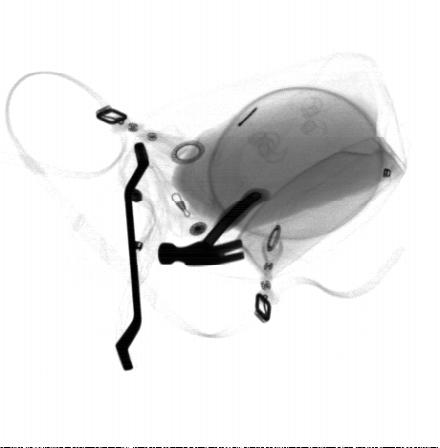Hammer: (157, 186, 268, 267)
Wrench: (115, 143, 150, 372)
